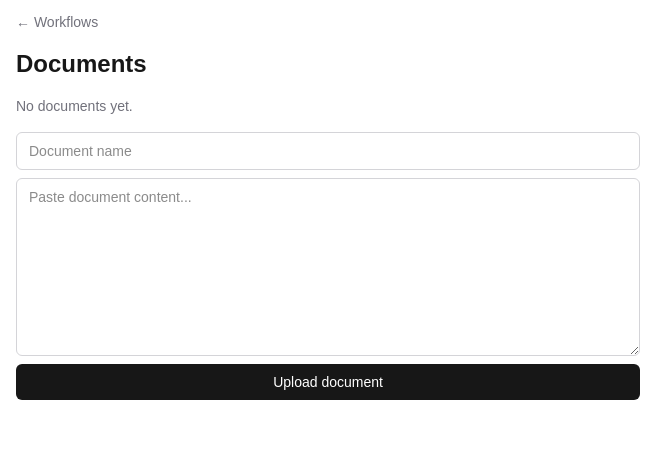
Test case: DocumentsPage › shows a create error via ApiError message
Expected: the text "No documents yet." is shown, 16,98 -> 133,114
Type "New Doc" into the field with placeholder "Document name" at (328, 151), box 16,132 -> 640,170
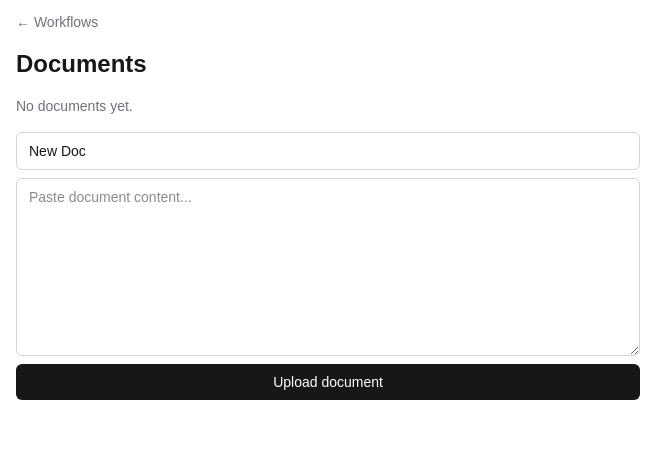
Type "some content" into the text box with placeholder "Paste document content..." at (328, 267), box 16,178 -> 640,356
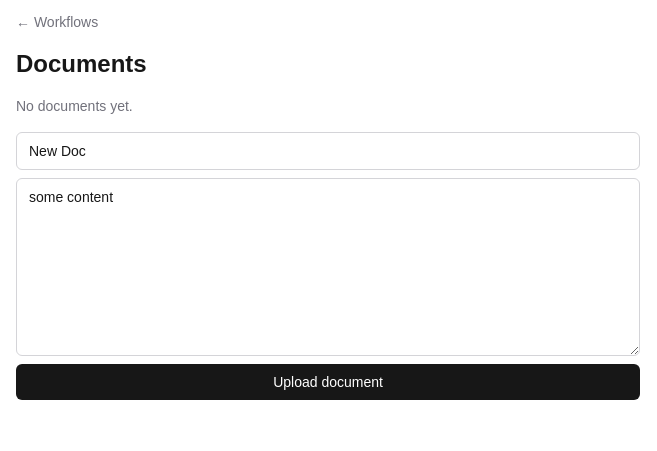
Click the button "Upload document" at (328, 382), box 16,364 -> 640,400
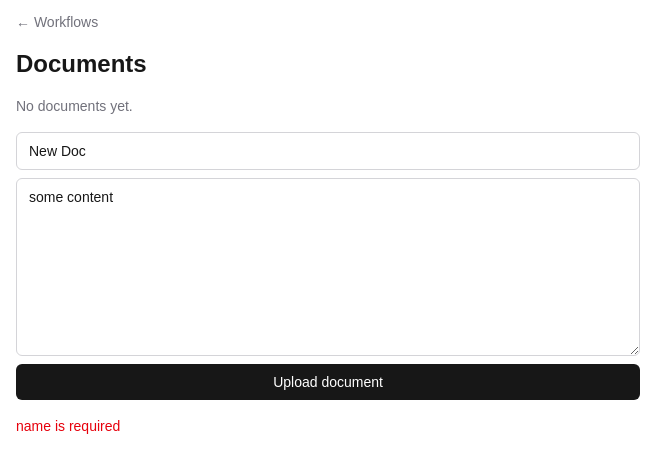
Expected: the text "name is required" is shown, 16,418 -> 120,434
